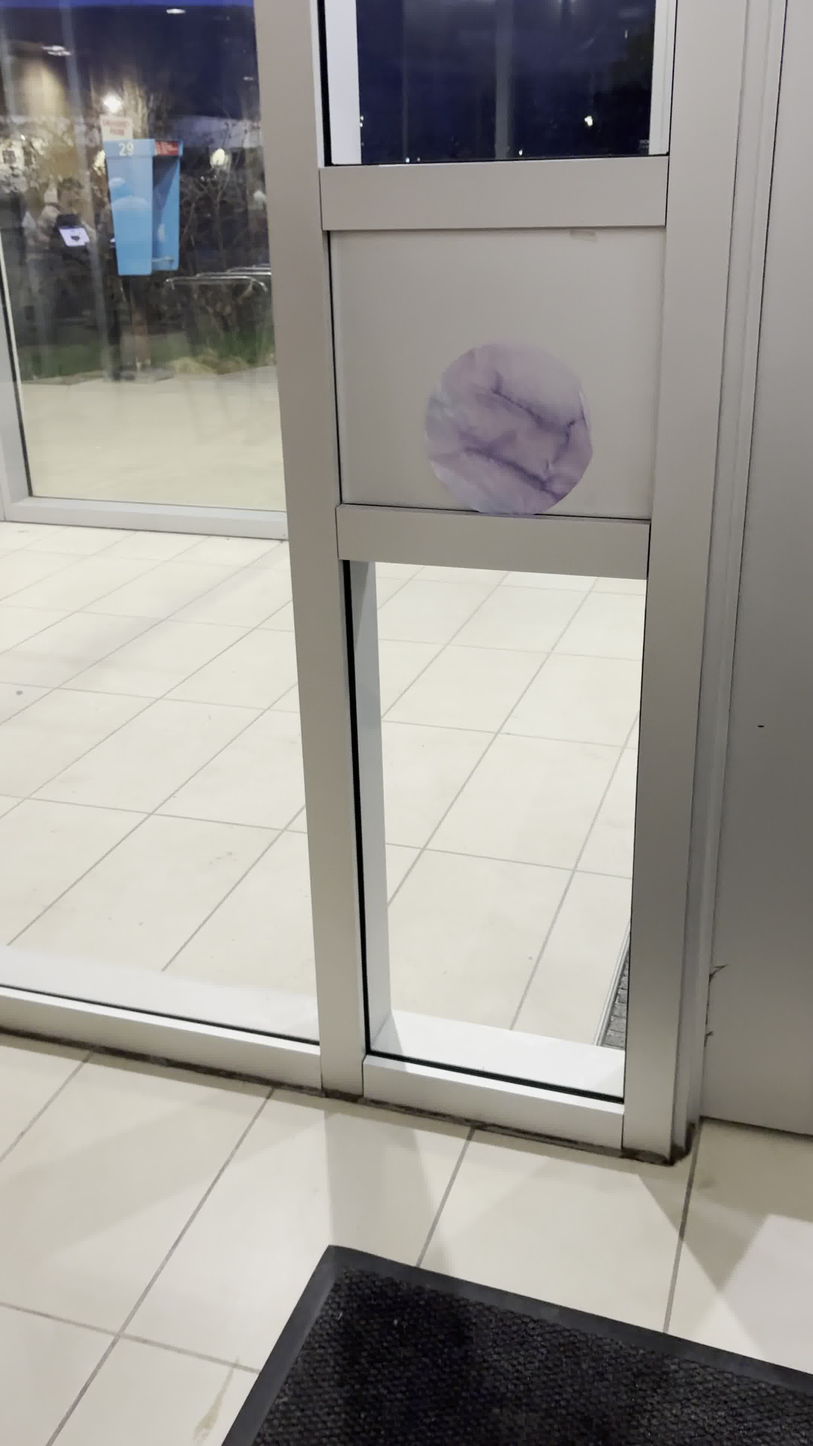Target: (422, 340, 596, 521)
